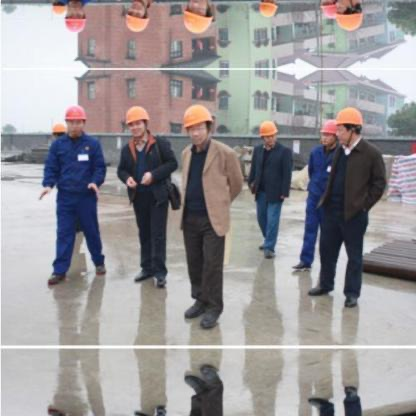Safety Helmet: (179, 96, 215, 153), (121, 102, 155, 150), (333, 102, 368, 146), (182, 1, 218, 40), (121, 1, 152, 37), (254, 116, 283, 151), (334, 1, 367, 31), (63, 104, 88, 139), (63, 1, 88, 33), (319, 117, 338, 143), (318, 1, 339, 18)
